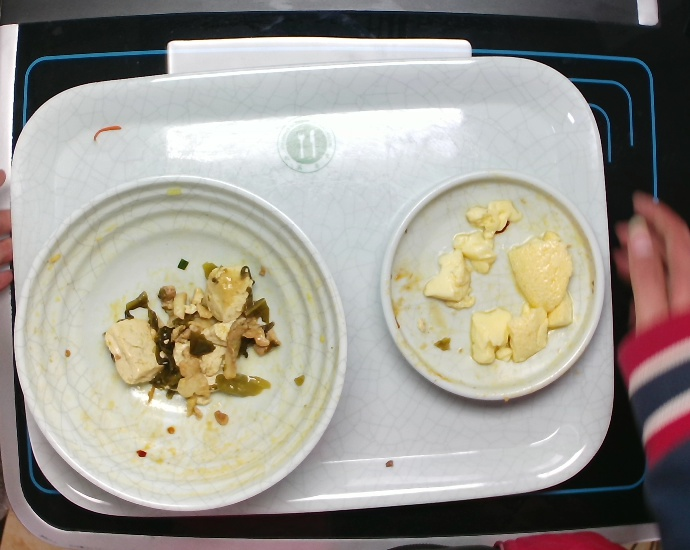JYsf-Da_Tang_Wan: (11, 173, 351, 514)
JYsf-Xiao_Yuan_Pan: (376, 168, 607, 403)
